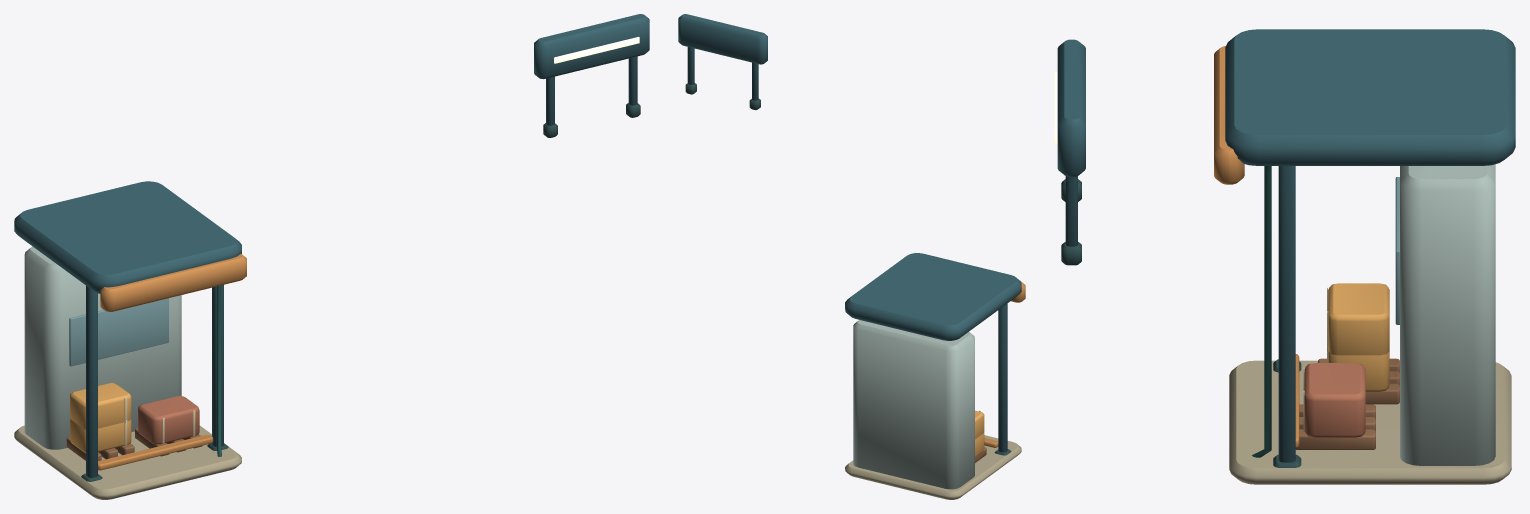
The model's file is harbor_distribution_4.glb.
The picture shows the model from 3 angles, left to right: view 1: azimuth 30°, elevation 25°; view 2: azimuth 150°, elevation 25°; view 3: azimuth 270°, elevation 25°; orthographic projection. The views are drawn at different scales.
Visible parts, largest first — view 1: HarborDistribution4; view 2: HarborDistribution4; view 3: HarborDistribution4.
Part boxes in pixels (x1=…): HarborDistribution4: x1=14, y1=14, x2=649, y2=499; HarborDistribution4: x1=678, y1=14, x2=1025, y2=499; HarborDistribution4: x1=1054, y1=29, x2=1515, y2=484.
Size of the model in its own units: 7.85 by 6.1 by 4.05.
